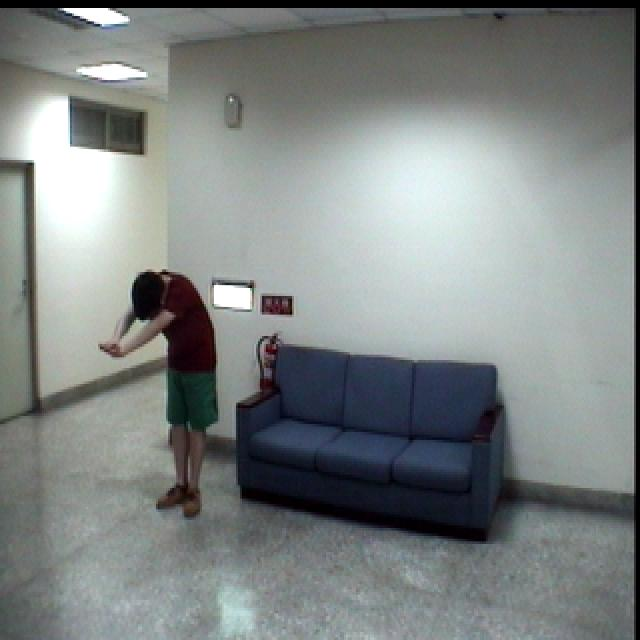bend: (96, 266, 229, 520)
